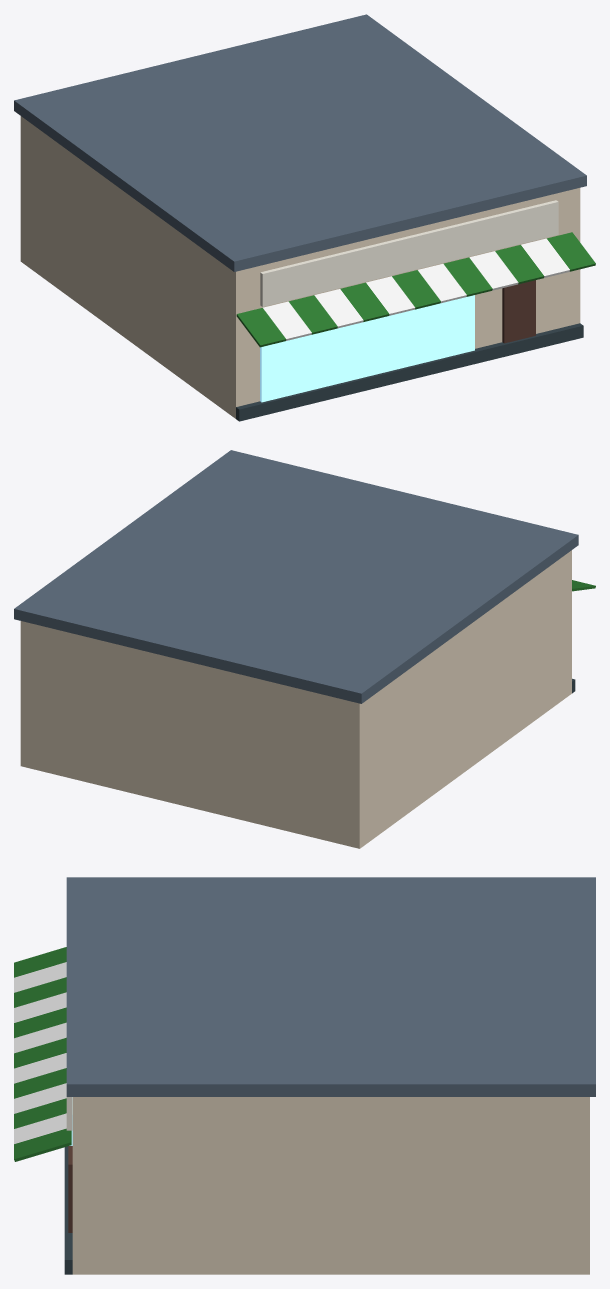
The model's file is town_shop.glb.
3 views of the same model, one above another, from view 1: azimuth 30°, elevation 25°; view 2: azimuth 150°, elevation 25°; view 3: azimuth 270°, elevation 25° (orthographic). The views are drawn at different scales.
Visible parts, largest first — view 1: TownShop_body; view 2: TownShop_body; view 3: TownShop_body.
Part boxes in pixels (box(x1,y1,x2,y2)): TownShop_body: box(14, 14, 595, 421); TownShop_body: box(14, 450, 595, 848); TownShop_body: box(14, 877, 595, 1274).
Bounding box in the file's own units: 12.3 × 5.35 × 14.62.
